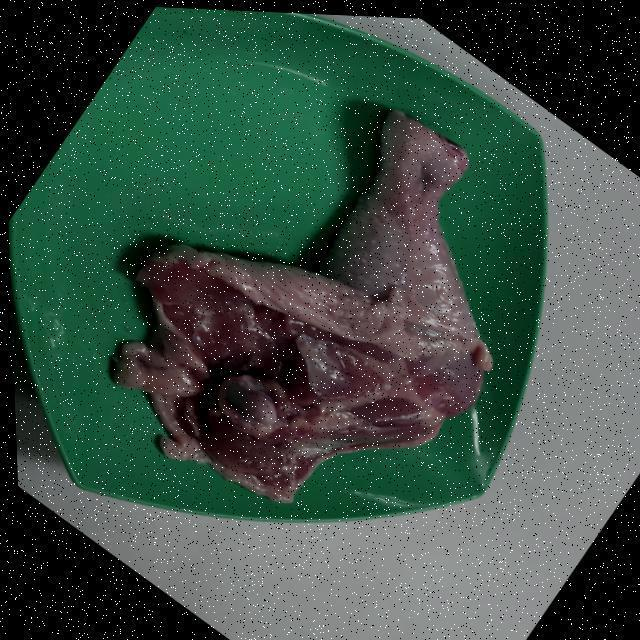quater: (130, 112, 483, 502)
